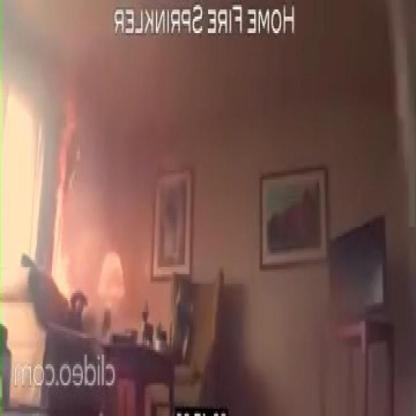Fire: (52, 104, 83, 296)
